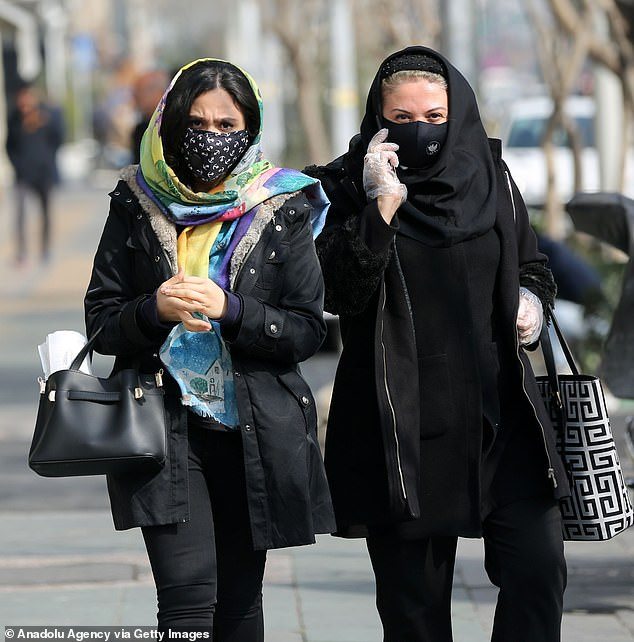Person: (324, 45, 592, 642), (88, 57, 327, 638)
